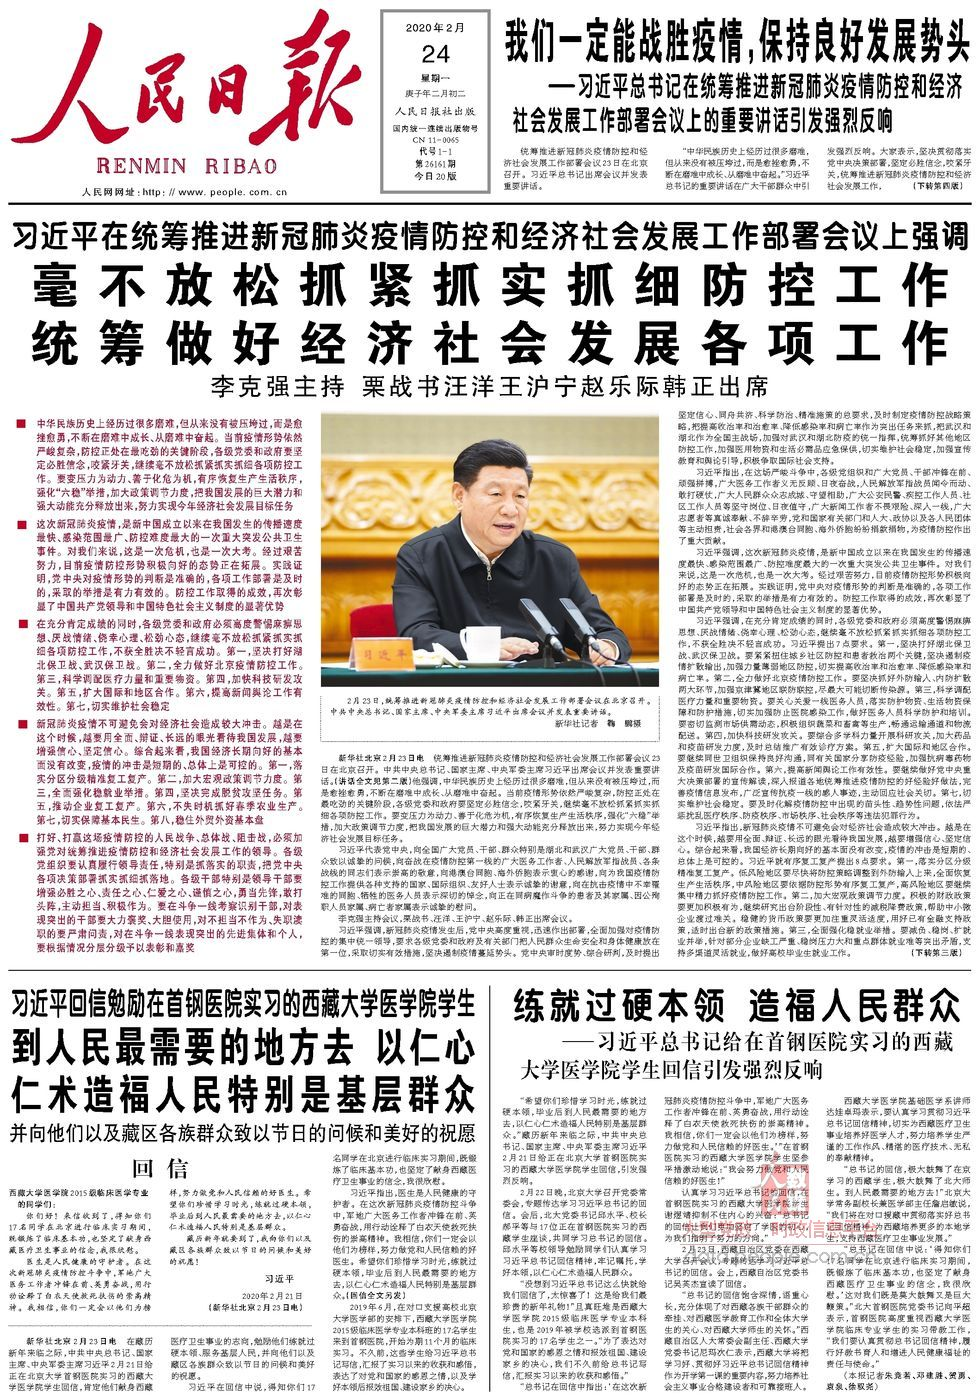pic: (317, 407, 665, 694)
